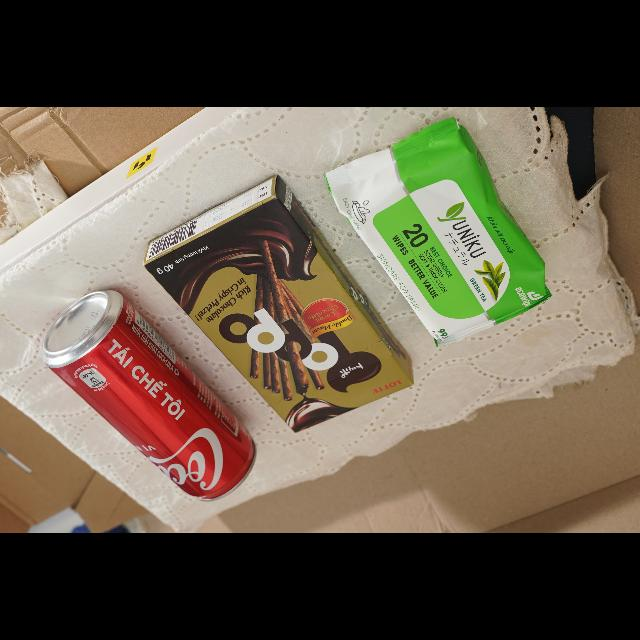banh_toppo_socola: (144, 176, 413, 432), (144, 176, 413, 432)
coca_cola: (43, 290, 256, 501)
khan_giay: (326, 118, 551, 346)
